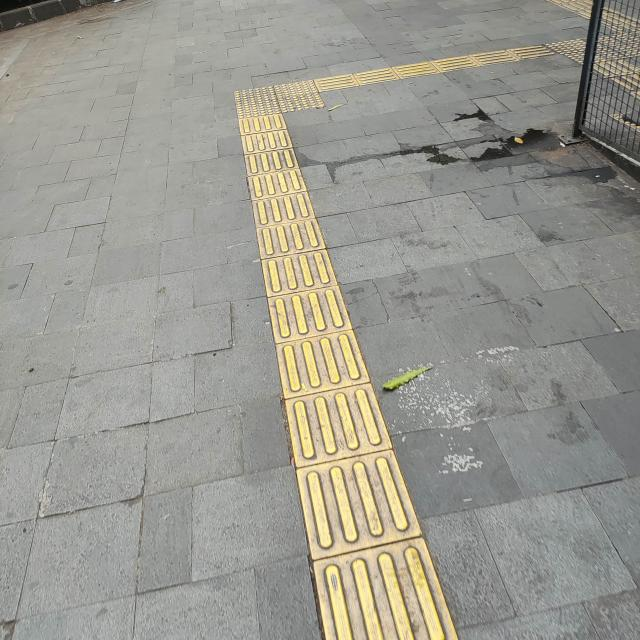kanan: (208, 52, 403, 139)
